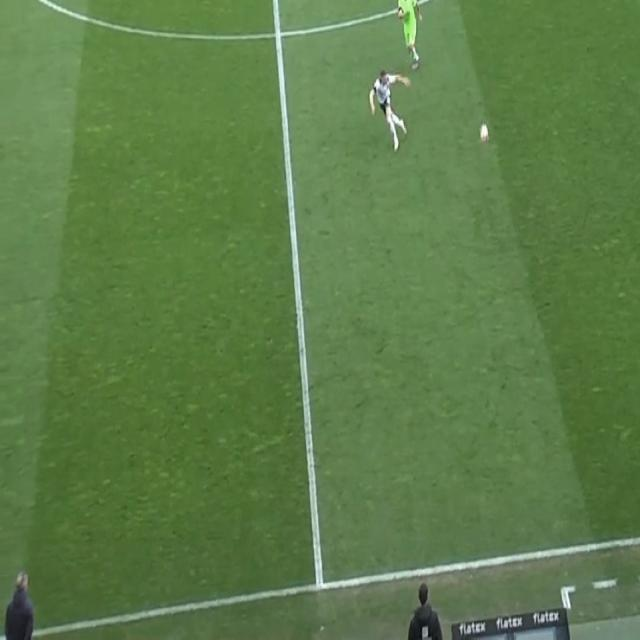ball: (478, 122, 491, 147)
